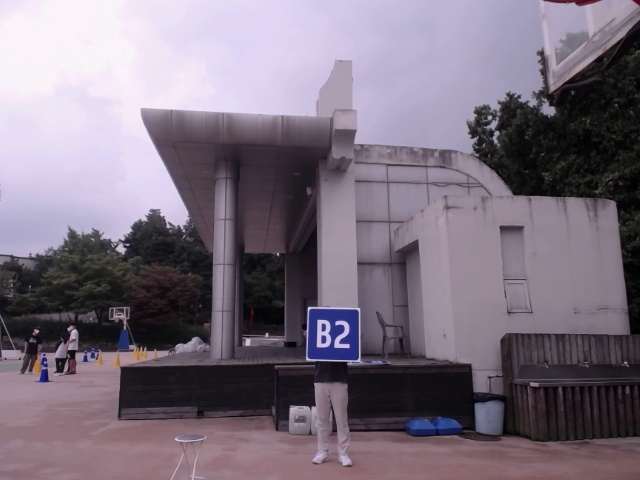delivery_b2: (308, 307, 360, 362)
